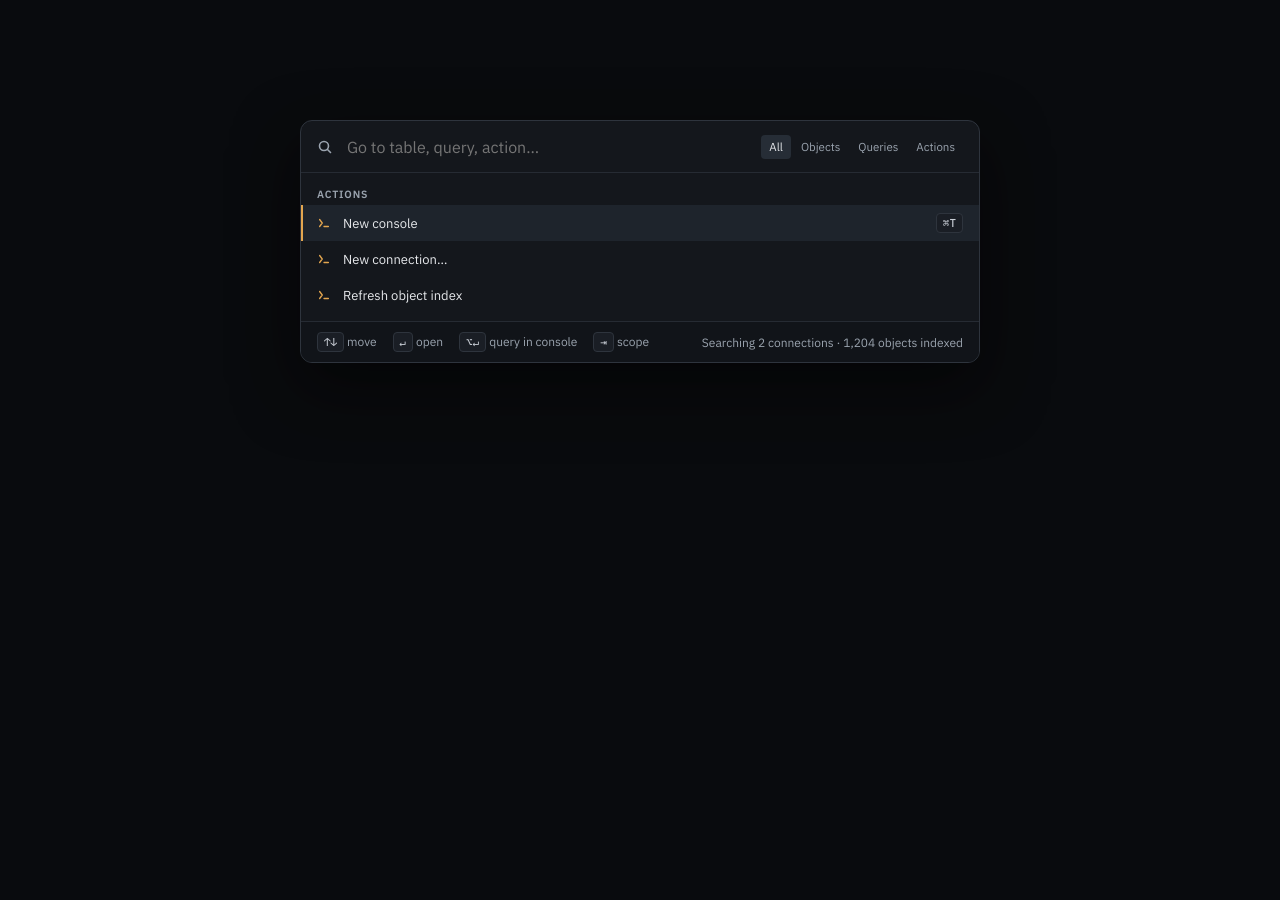
Fuzzy search and Result actions › lists the matching objects with connection, env and highlighted characters
Type "ord" into the dropdown at (547, 146), box [345, 136, 749, 158]
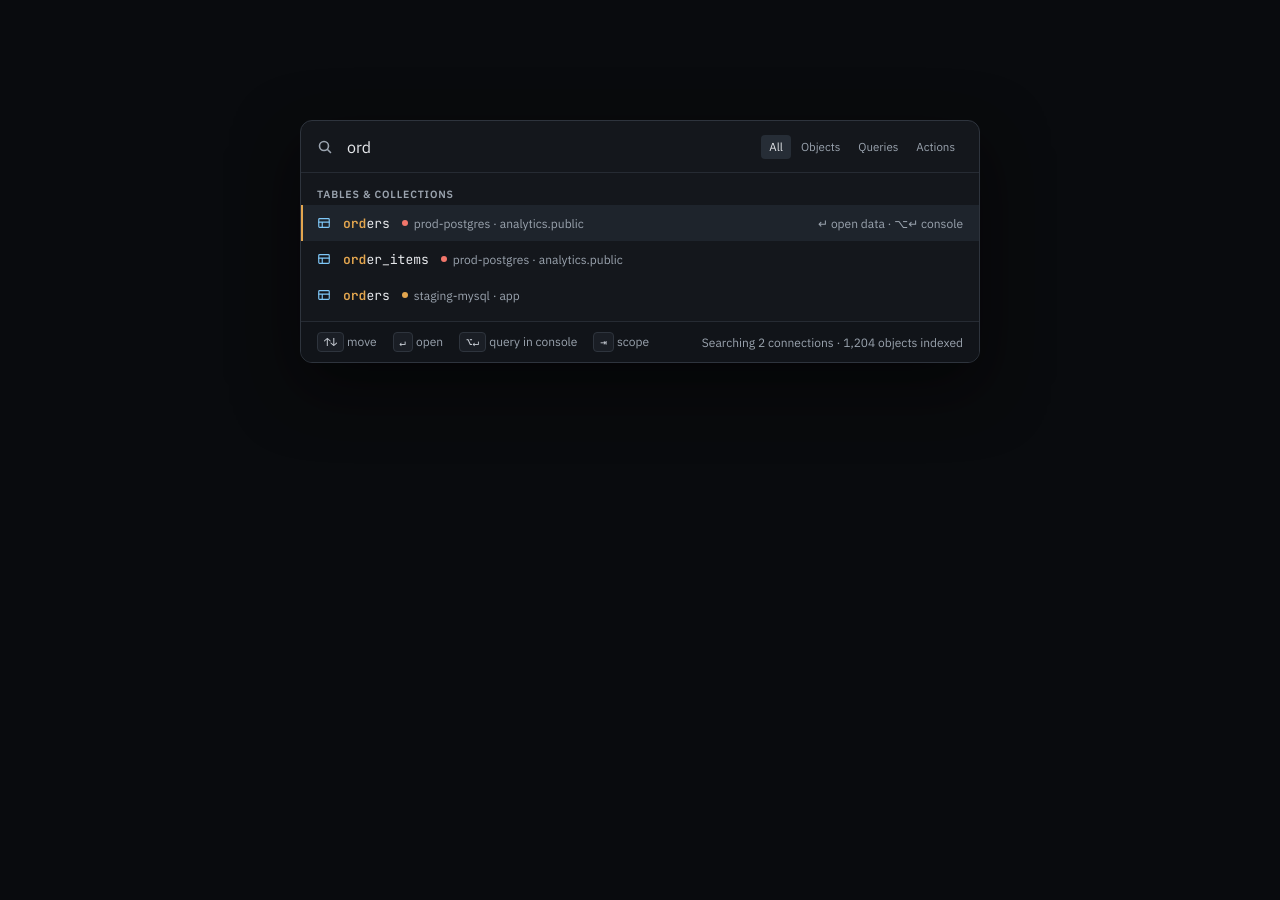
Check: the 1st option shows "orders", box [301, 205, 979, 241]
Check: the 1st option shows "prod-postgres · analytics.public", box [301, 205, 979, 241]
Check: the text "ord" in the row of "↵ open data · ⌥↵ console" is shown, box [343, 214, 366, 232]
